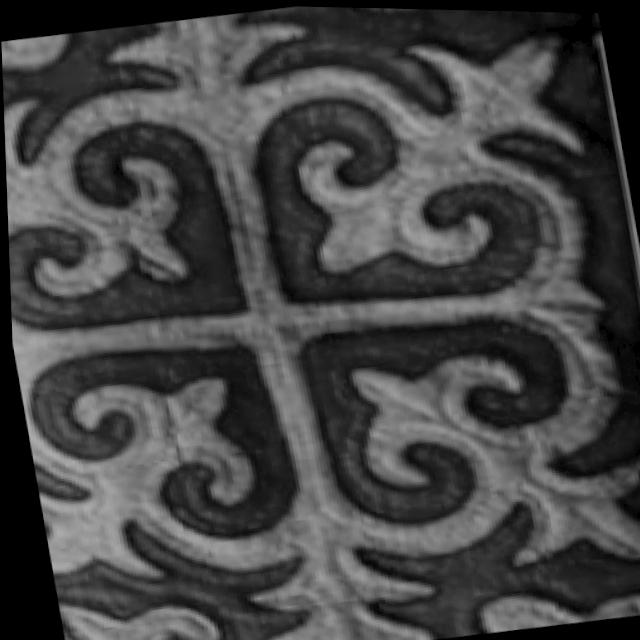Unity: (3, 18, 640, 624)
